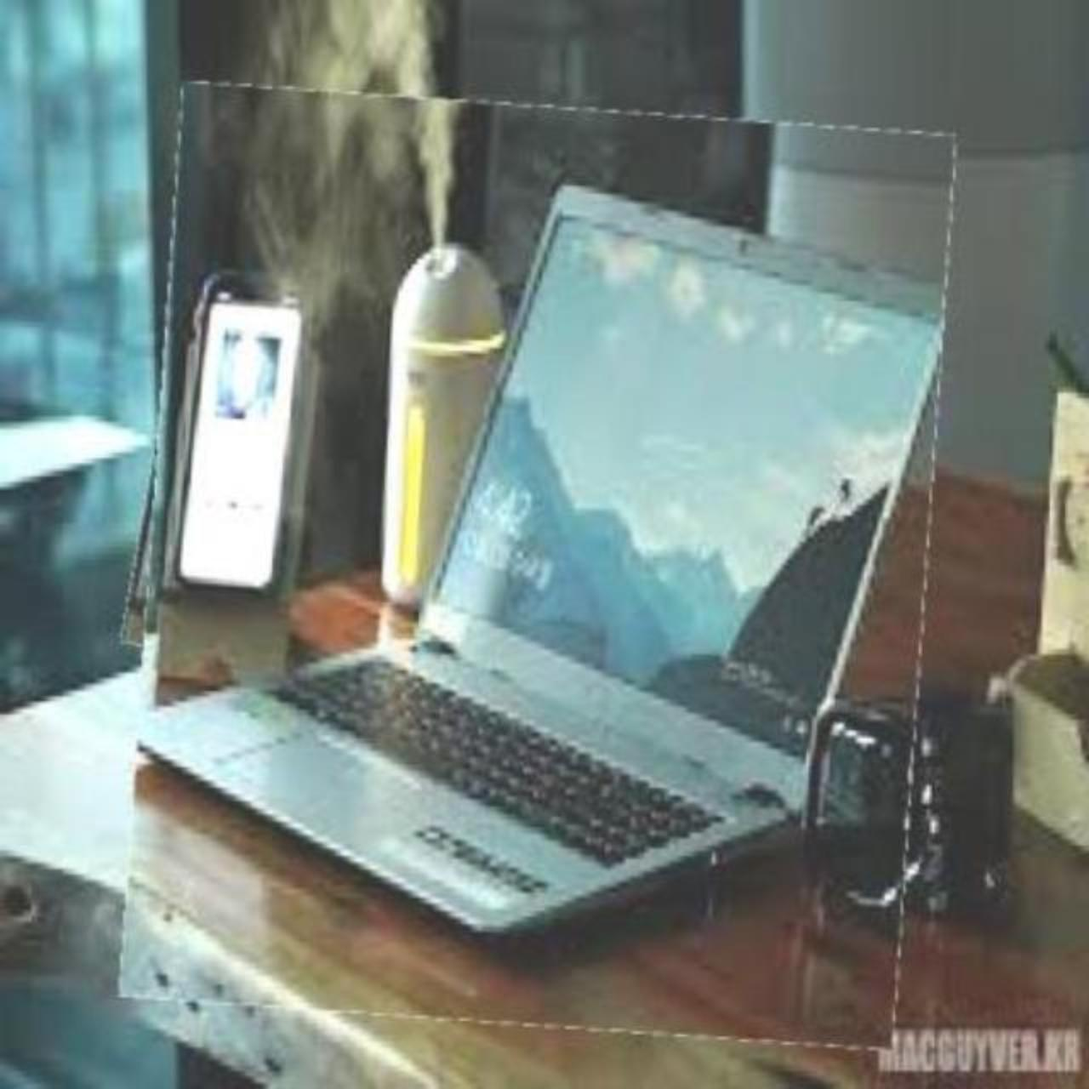laptop: (135, 94, 940, 1035)
